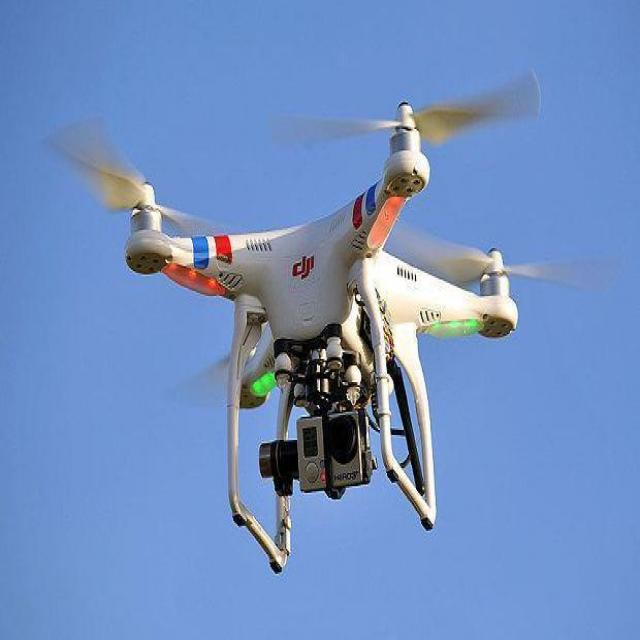UAV: (120, 91, 520, 575)
